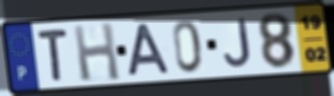0: (171, 19, 204, 74)
8: (256, 10, 298, 70)
A: (126, 22, 173, 78)
H: (71, 21, 122, 84)
J: (222, 17, 254, 69)
T: (35, 27, 71, 83)
